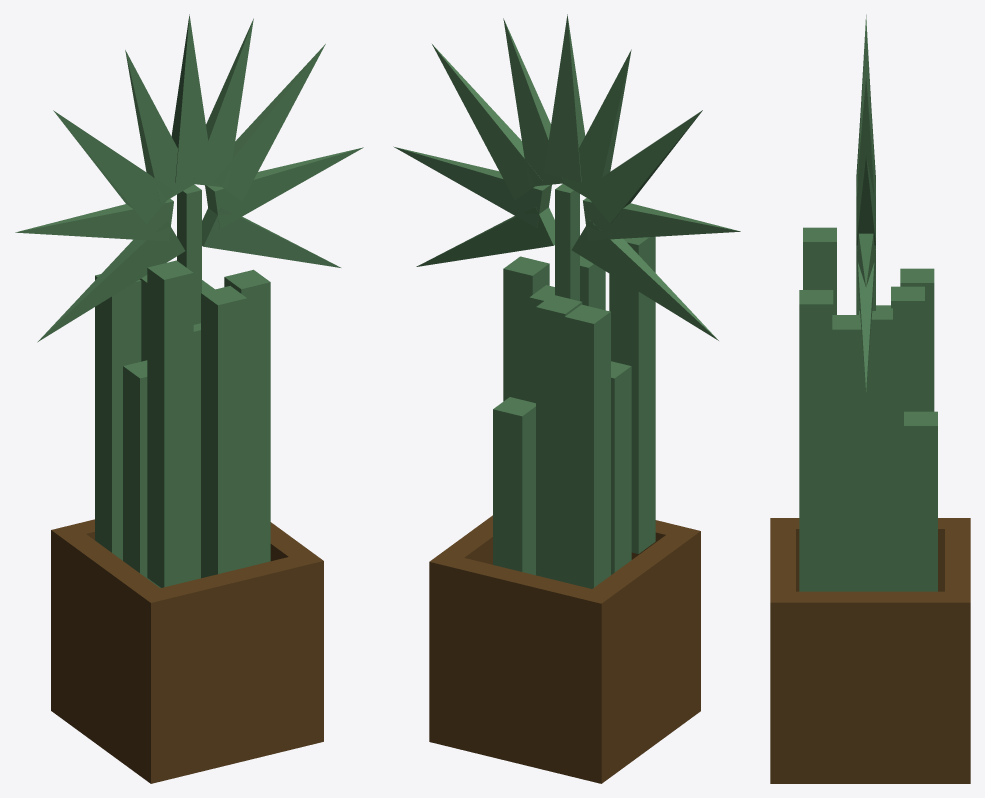
Rendered from nakotya.fbx.
3 renders of one model, left to right at view 1: azimuth 30°, elevation 25°; view 2: azimuth 150°, elevation 25°; view 3: azimuth 270°, elevation 25°, orthographic.
Visible parts, largest first — view 1: Cube.011; view 2: Cube.011; view 3: Cube.011.
Part boxes in pixels (<box>): Cube.011: <box>15,14,363,783</box>; Cube.011: <box>393,14,740,783</box>; Cube.011: <box>770,14,970,783</box>.
Size of the model in its own units: 177 by 344 by 87.23.
